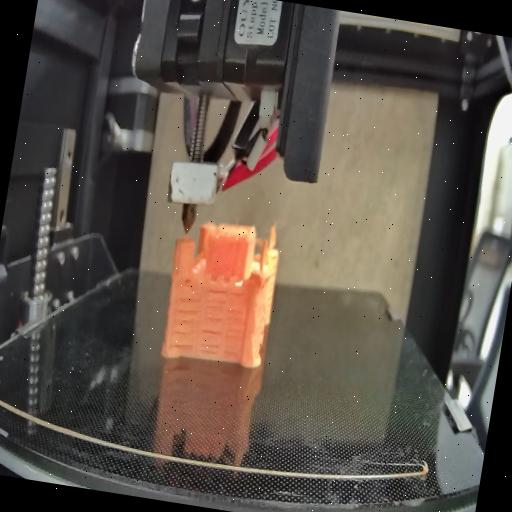cracks: (168, 294, 200, 350), (220, 304, 250, 360), (202, 286, 228, 324), (198, 326, 222, 356), (228, 287, 246, 298), (181, 274, 196, 284)
